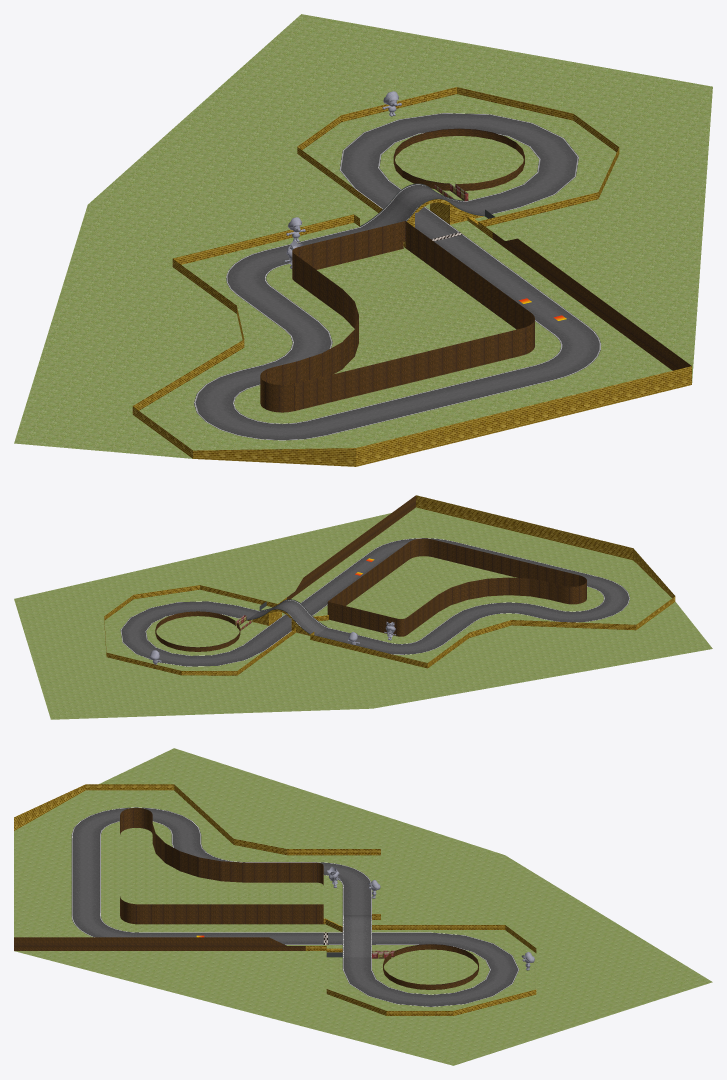
3 views of the same model, one above another, from view 1: azimuth 30°, elevation 25°; view 2: azimuth 150°, elevation 25°; view 3: azimuth 270°, elevation 25° (orthographic). The views are drawn at different scales.
Visible parts, largest first — view 1: GK7_Baby_Circuit_SKP__OFF_Road_04, GK7_Baby_Circuit_SKP__Main_Road, GK7_Baby_Circuit_SKP__Rock, GK7_Baby_Circuit_SKP__Wall2, GK7_Baby_Circuit_SKP__Stone; view 2: GK7_Baby_Circuit_SKP__OFF_Road_04, GK7_Baby_Circuit_SKP__Main_Road, GK7_Baby_Circuit_SKP__Rock, GK7_Baby_Circuit_SKP__Wall2, GK7_Baby_Circuit_SKP__Stone; view 3: GK7_Baby_Circuit_SKP__OFF_Road_04, GK7_Baby_Circuit_SKP__Main_Road, GK7_Baby_Circuit_SKP__Rock, GK7_Baby_Circuit_SKP__Wall2.
Boxes of the visible parts, box(x1,y1,x2,y2) form: GK7_Baby_Circuit_SKP__OFF_Road_04: box(14, 14, 712, 458); GK7_Baby_Circuit_SKP__Main_Road: box(194, 113, 601, 440); GK7_Baby_Circuit_SKP__Rock: box(260, 128, 691, 412); GK7_Baby_Circuit_SKP__Wall2: box(132, 87, 691, 466); GK7_Baby_Circuit_SKP__Stone: box(284, 91, 401, 268); GK7_Baby_Circuit_SKP__OFF_Road_04: box(14, 507, 712, 719); GK7_Baby_Circuit_SKP__Main_Road: box(120, 538, 629, 666); GK7_Baby_Circuit_SKP__Rock: box(155, 495, 586, 651); GK7_Baby_Circuit_SKP__Wall2: box(104, 495, 675, 675); GK7_Baby_Circuit_SKP__Stone: box(149, 622, 395, 664); GK7_Baby_Circuit_SKP__OFF_Road_04: box(14, 748, 712, 1065); GK7_Baby_Circuit_SKP__Main_Road: box(71, 807, 519, 1006); GK7_Baby_Circuit_SKP__Rock: box(14, 808, 478, 989); GK7_Baby_Circuit_SKP__Wall2: box(14, 784, 536, 1015).
Size of the model in its own units: 63803 by 2063 by 59318.
Materials: 9 (9 with a texture image).
